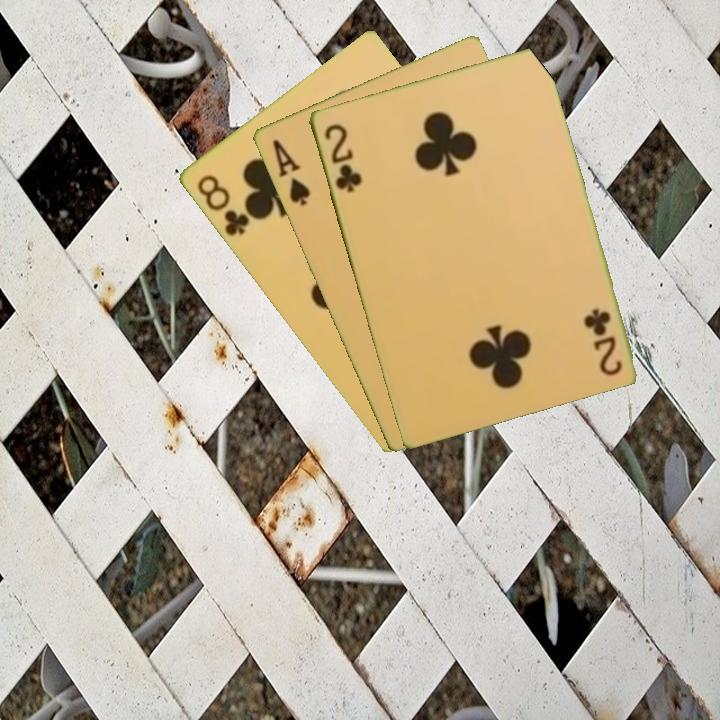2c: (320, 120, 365, 196), (583, 305, 625, 379)
8c: (192, 171, 252, 239)
As: (268, 135, 313, 209)
